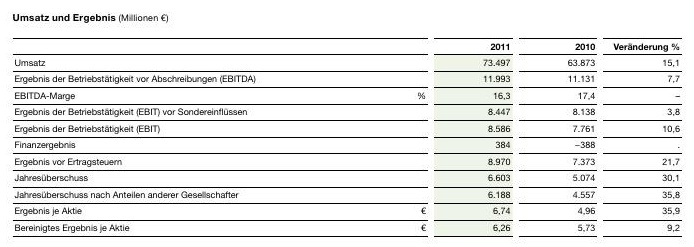table: (0, 0, 694, 247)
